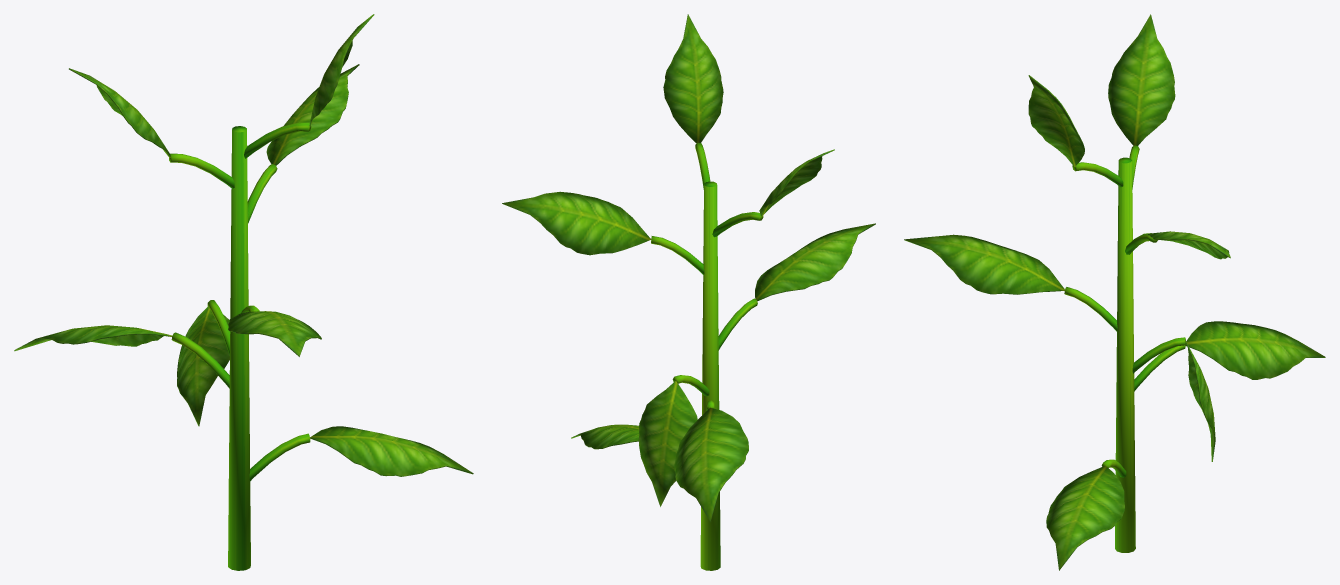
The model's file is NP_ChiliPepper_Young_LOD1.fbx.
The picture shows the model from 3 angles, left to right: view 1: azimuth 30°, elevation 25°; view 2: azimuth 150°, elevation 25°; view 3: azimuth 270°, elevation 25°; orthographic projection. The views are drawn at different scales.
Visible parts, largest first — view 1: NP_ChiliPepper_Young; view 2: NP_ChiliPepper_Young; view 3: NP_ChiliPepper_Young.
Part boxes in pixels (x1,y1,x2,y2): NP_ChiliPepper_Young: (14,14,473,570); NP_ChiliPepper_Young: (502,14,875,570); NP_ChiliPepper_Young: (904,14,1325,570).
Size of the model in its own units: 48.56 by 75.11 by 56.44.
